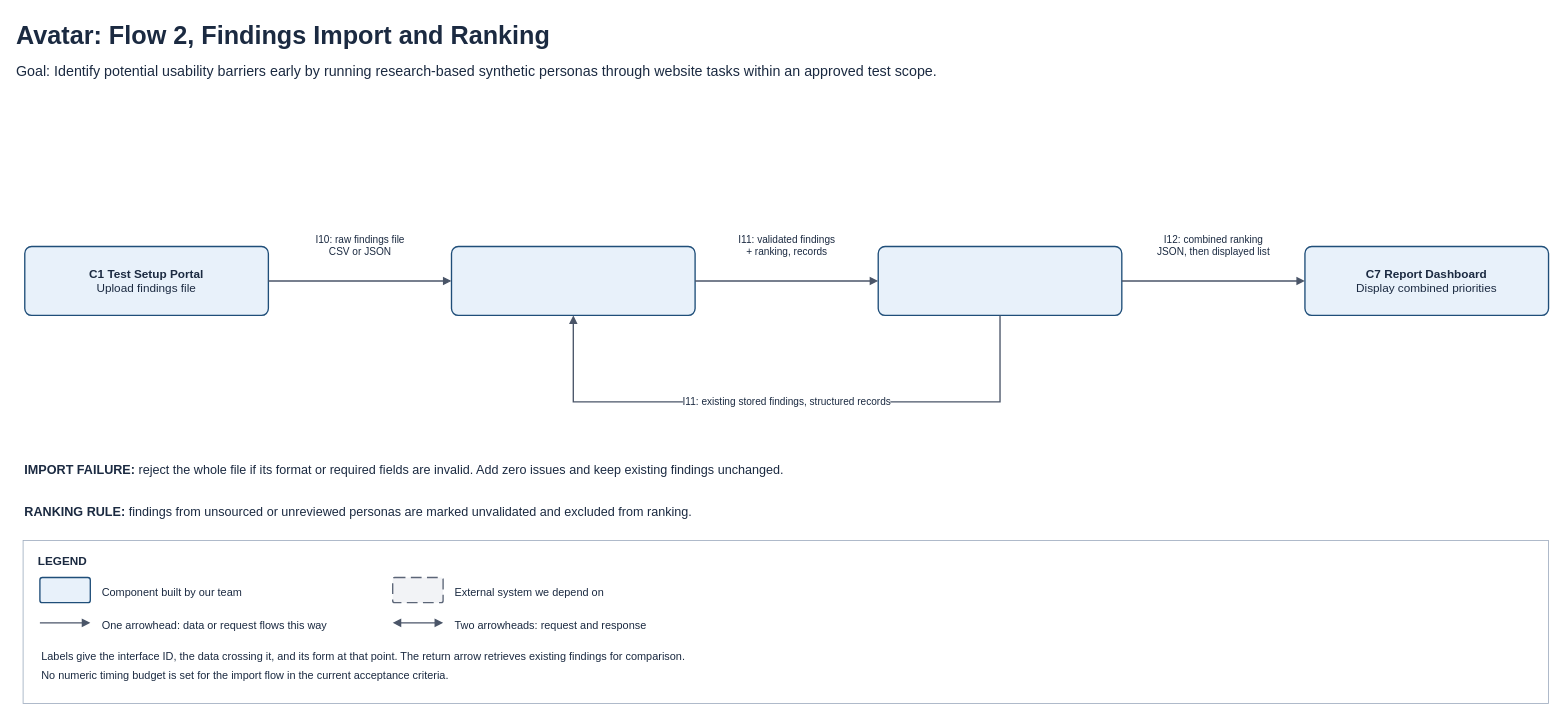
The diagram is 1563 pixels wide and 718 high, and some of its shapes have lost their labels. The centre of each missing label's shape, as x and y in pixels:
C5 Results Store Save findings + ranking: [999,280]
C6 Findings Prioritizer Validate, merge, and rank: [572,280]
